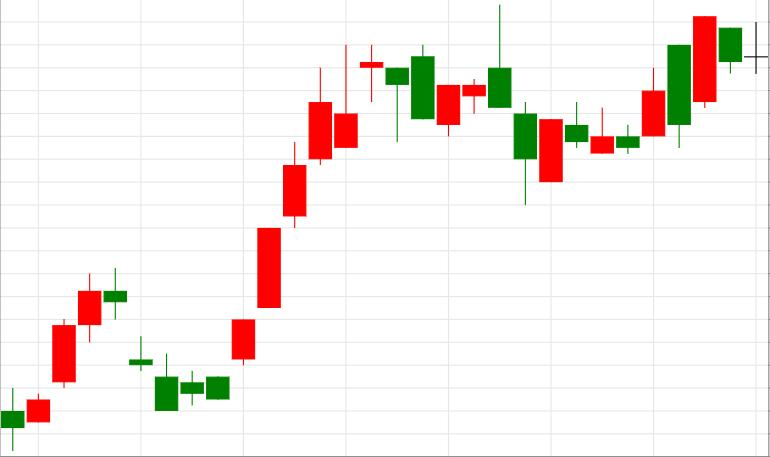three_white_soldiers_rise: (104, 141, 306, 411)
